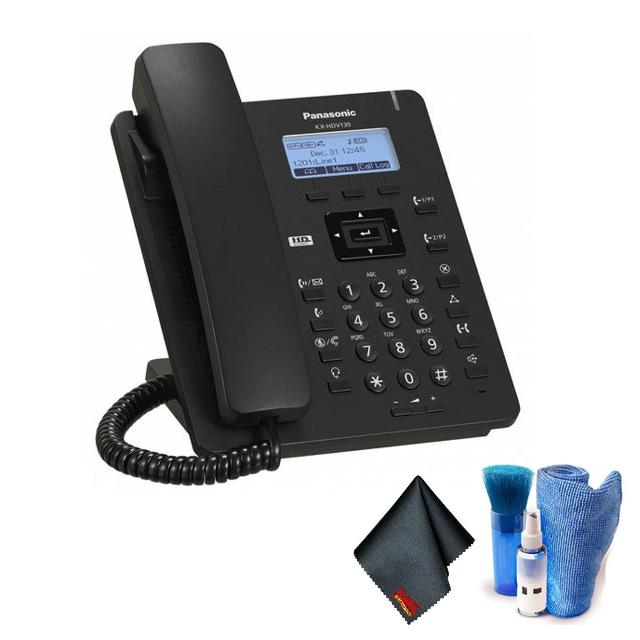Telephone-Set: (72, 24, 540, 473)
